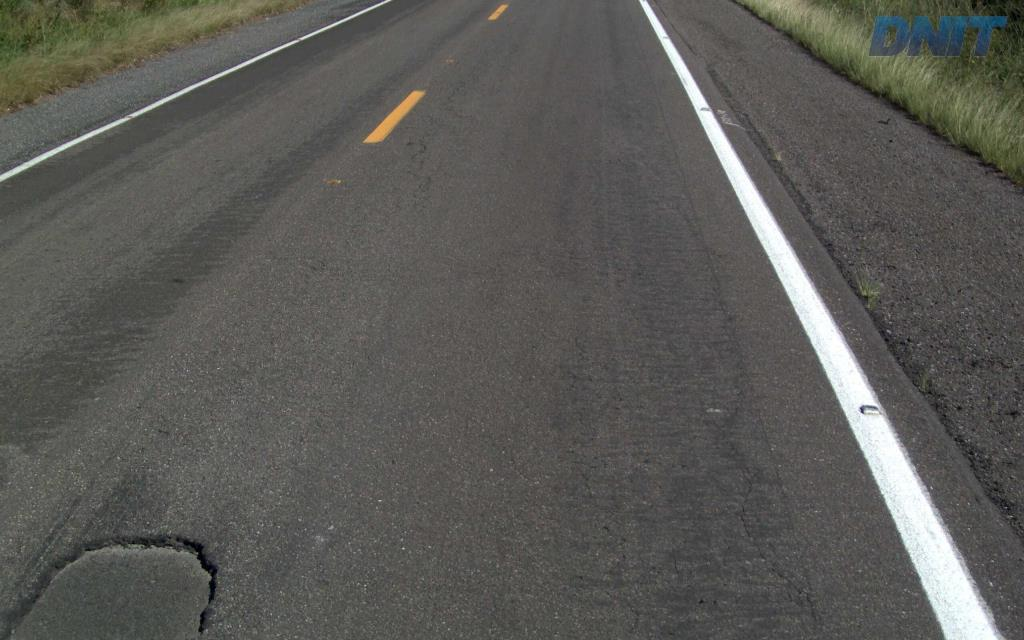pothole: (1, 528, 218, 638)
